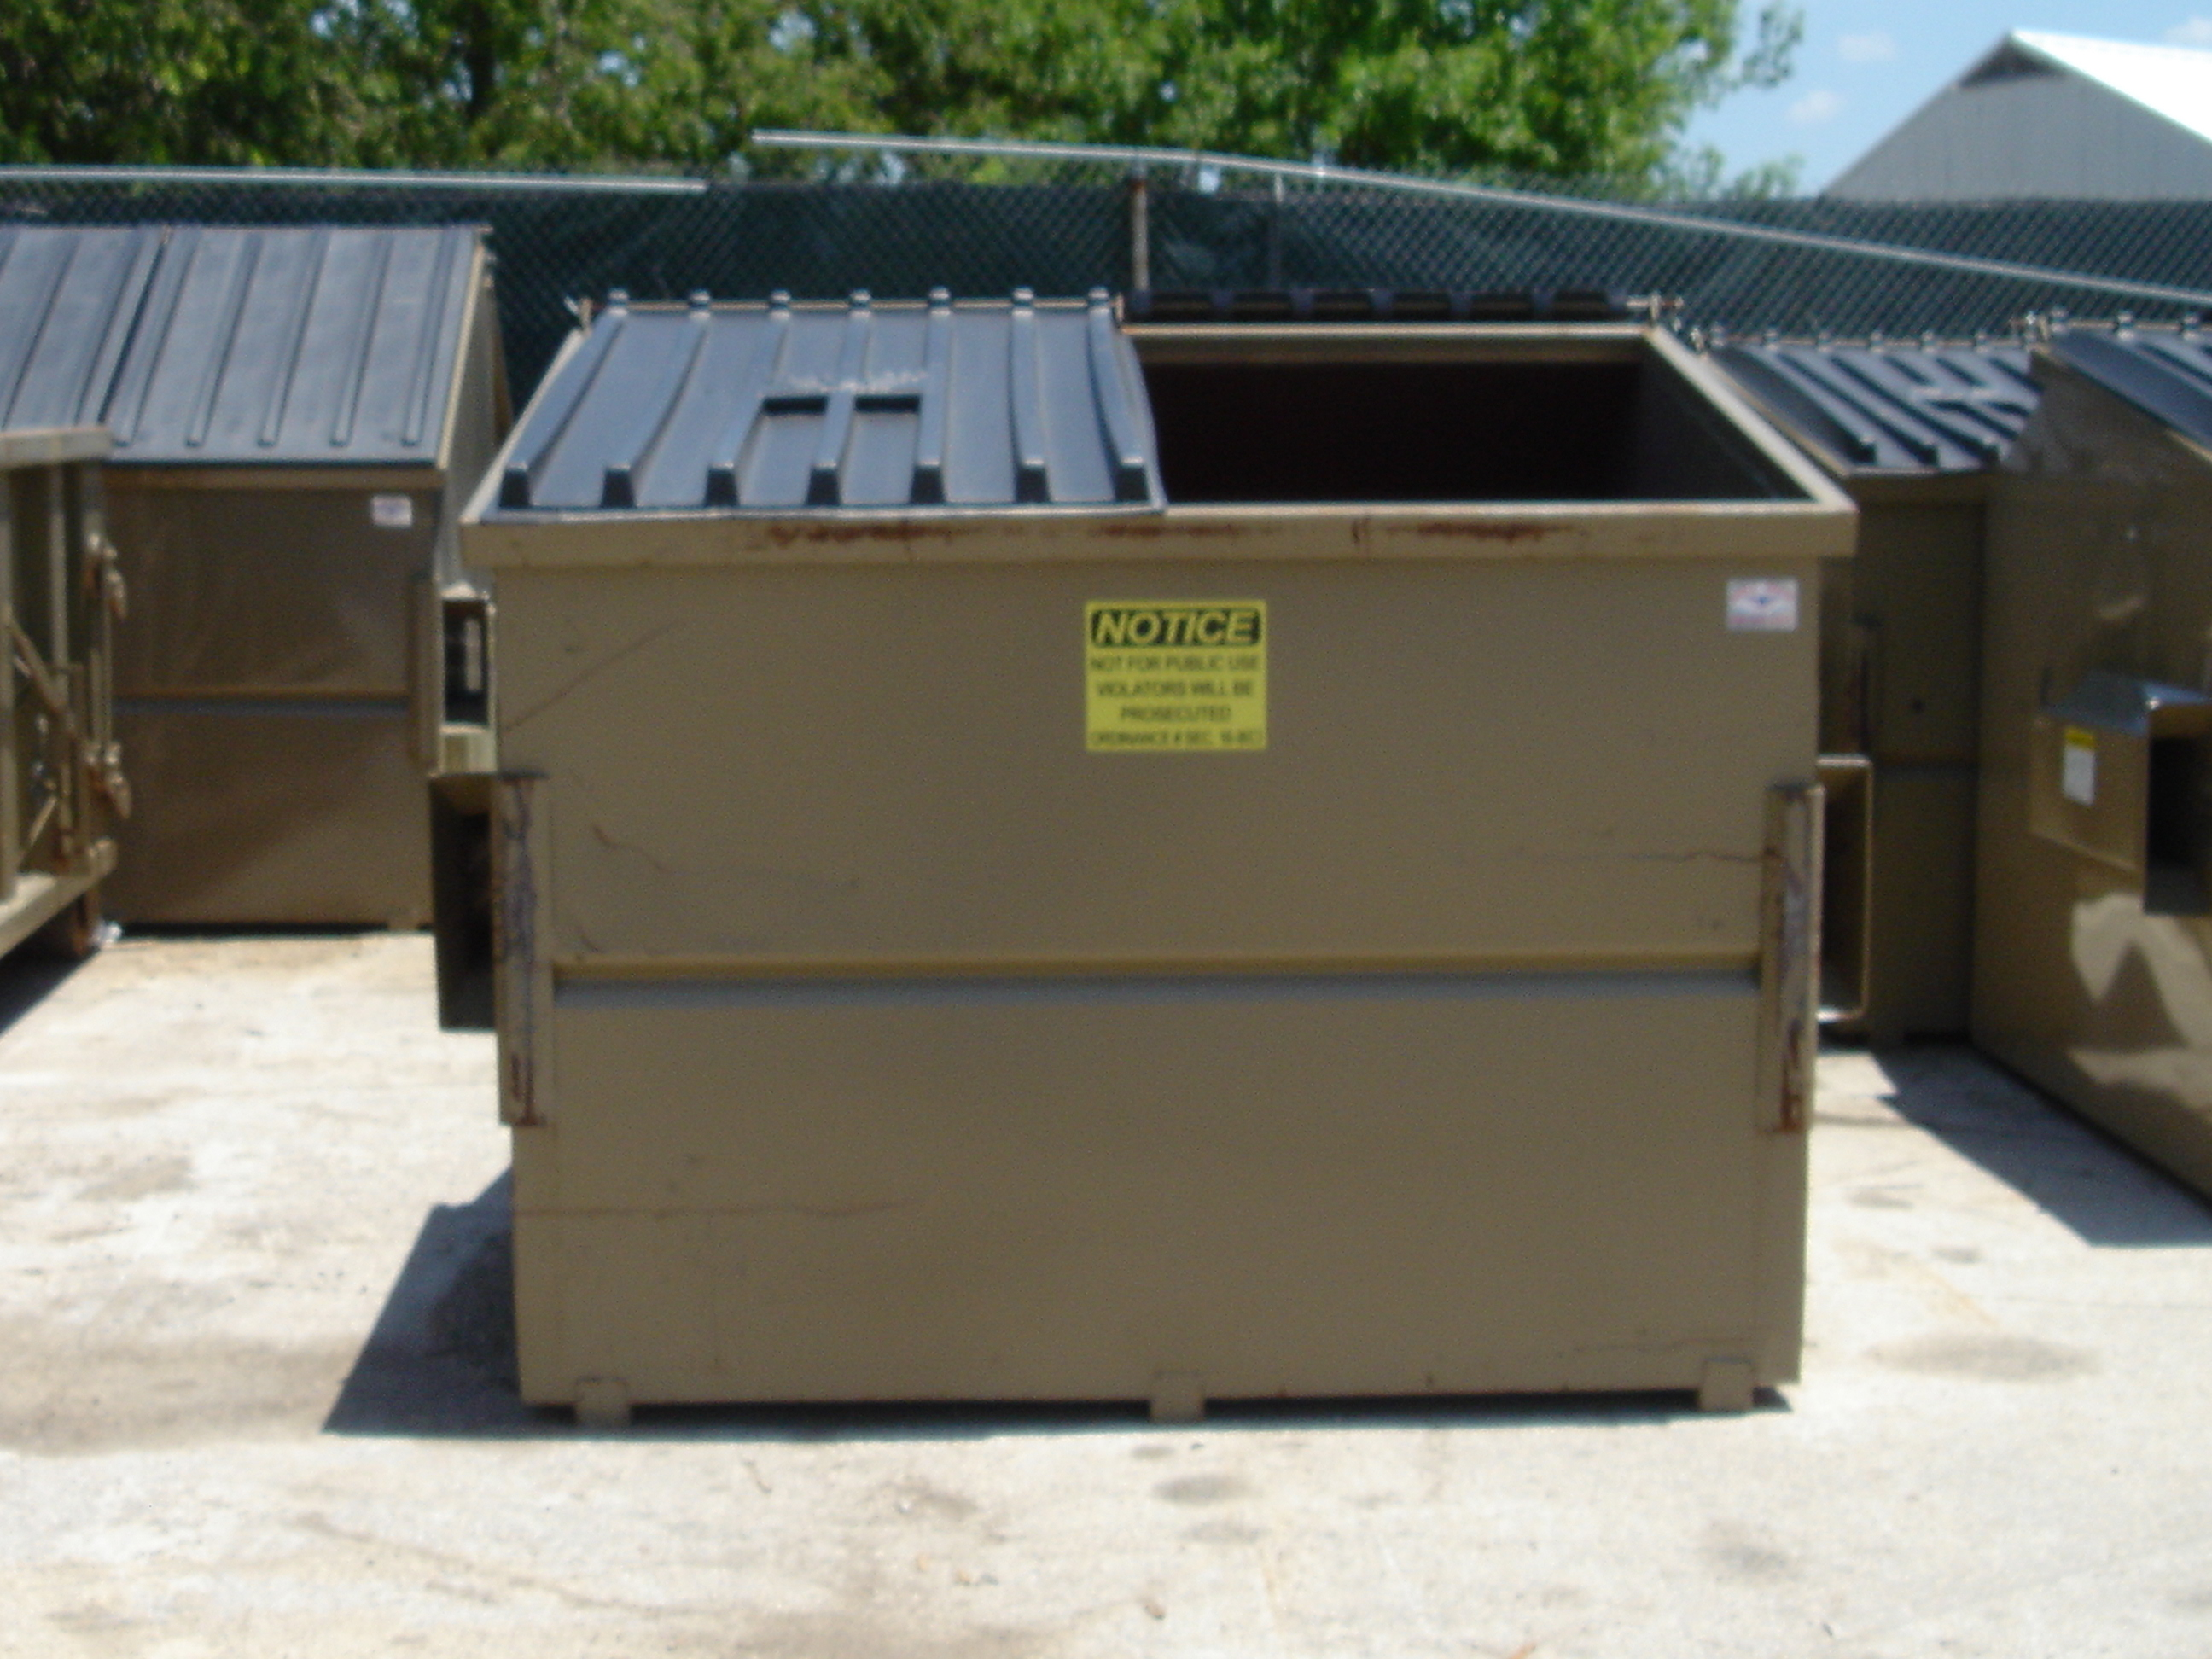Dumpster: (409, 275, 1912, 1450), (1743, 288, 2212, 1223), (0, 200, 528, 978)
